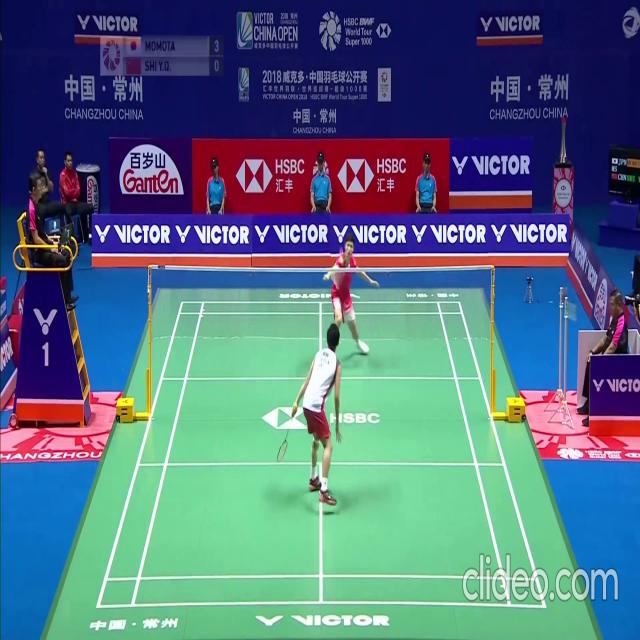Shuttlecock: (339, 247, 343, 254)
